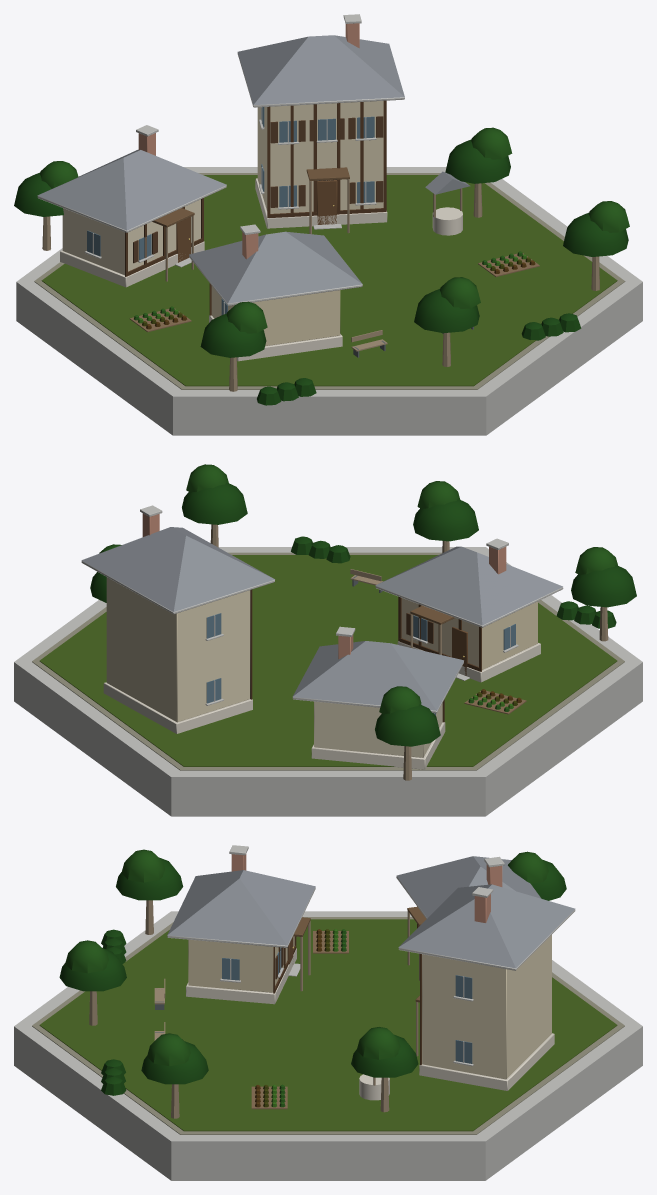
Rendered from cottage_asia.glb.
3 views of the same model, one above another, from view 1: azimuth 30°, elevation 25°; view 2: azimuth 150°, elevation 25°; view 3: azimuth 270°, elevation 25° (orthographic).
Parts seen in each view (by area): view 1: turf, wall_concrete, roof_slate, leaf, plaster, wood, stone, pavers, glass, brick, earth; view 2: turf, wall_concrete, roof_slate, plaster, leaf, stone, pavers, wood, glass, brick; view 3: turf, wall_concrete, roof_slate, plaster, leaf, pavers, stone, wood, glass, brick, earth.
Boxes of the visible parts, x1,y1,x2,y2 form: turf: (41, 175, 617, 386); wall_concrete: (16, 14, 642, 435); roof_slate: (37, 35, 470, 303); leaf: (14, 127, 629, 405); plaster: (62, 101, 383, 346); wood: (42, 100, 599, 391); stone: (60, 178, 462, 361); pavers: (34, 173, 625, 389); glass: (87, 107, 374, 314); brick: (138, 23, 359, 259); earth: (129, 253, 539, 332); turf: (39, 555, 617, 766); wall_concrete: (14, 505, 642, 816); roof_slate: (81, 527, 562, 710); plaster: (106, 577, 537, 757); leaf: (90, 464, 636, 746); stone: (103, 641, 540, 769); pavers: (32, 552, 624, 770); wood: (210, 524, 608, 780); glass: (206, 613, 515, 715); brick: (142, 513, 506, 659); turf: (39, 919, 617, 1131); wall_concrete: (14, 845, 642, 1180); roof_slate: (167, 856, 575, 968); plaster: (188, 935, 551, 1079); leaf: (59, 849, 566, 1107); pavers: (32, 917, 624, 1134); stone: (186, 948, 554, 1100); wood: (89, 900, 426, 1118); glass: (222, 947, 472, 1063); brick: (231, 854, 502, 922); earth: (251, 931, 348, 1109).
Bounding box in the file's own units: 21.3 × 9.64 × 24.6.
